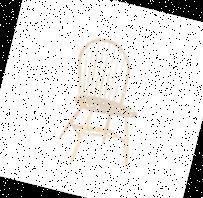Silla: (52, 31, 158, 177)
